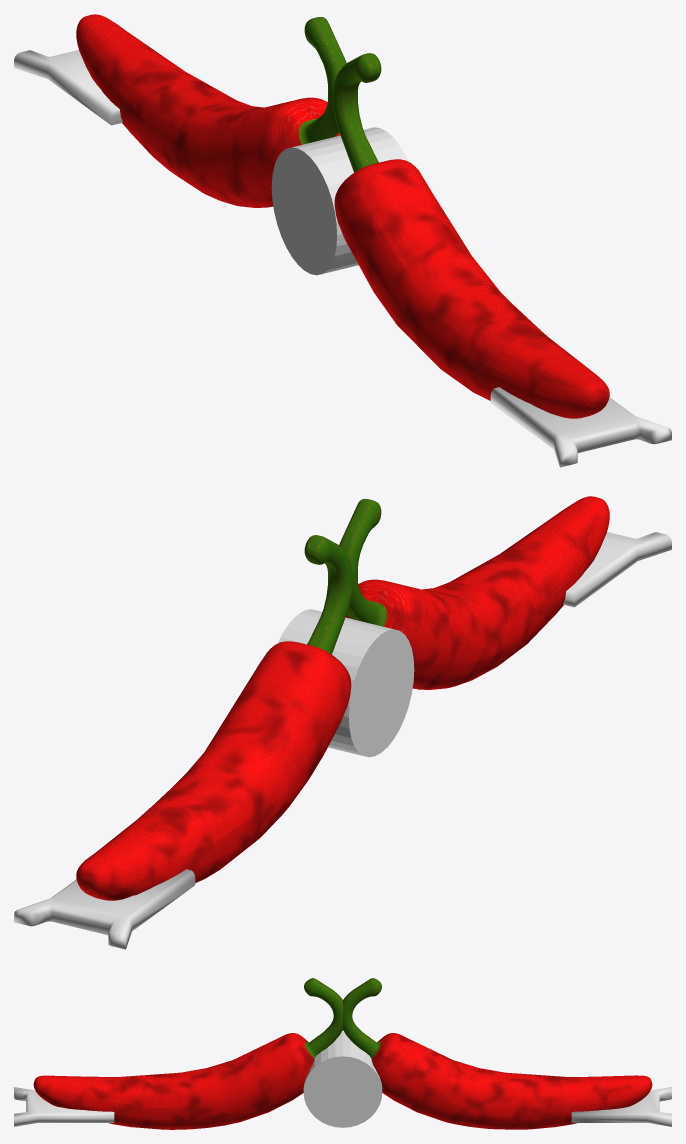
File: Chili.fbx
3 views of the same model, one above another, from view 1: azimuth 30°, elevation 25°; view 2: azimuth 150°, elevation 25°; view 3: azimuth 270°, elevation 25° (orthographic). The views are drawn at different scales.
Parts seen in each view (by area): view 1: Peppers_LOD0, Circle, RailCar; view 2: Peppers_LOD0, Circle, RailCar; view 3: Peppers_LOD0, Circle, RailCar.
Part boxes in pixels (bbox=[...]): Peppers_LOD0: bbox=[76, 14, 609, 418]; Circle: bbox=[271, 127, 407, 275]; RailCar: bbox=[14, 28, 671, 467]; Peppers_LOD0: bbox=[76, 496, 609, 900]; Circle: bbox=[278, 609, 414, 757]; RailCar: bbox=[14, 532, 671, 949]; Peppers_LOD0: bbox=[33, 978, 652, 1129]; Circle: bbox=[303, 1032, 382, 1127]; RailCar: bbox=[14, 1087, 671, 1126].
Size of what is drawn, in the model's own units: 198 by 409 by 1668.
